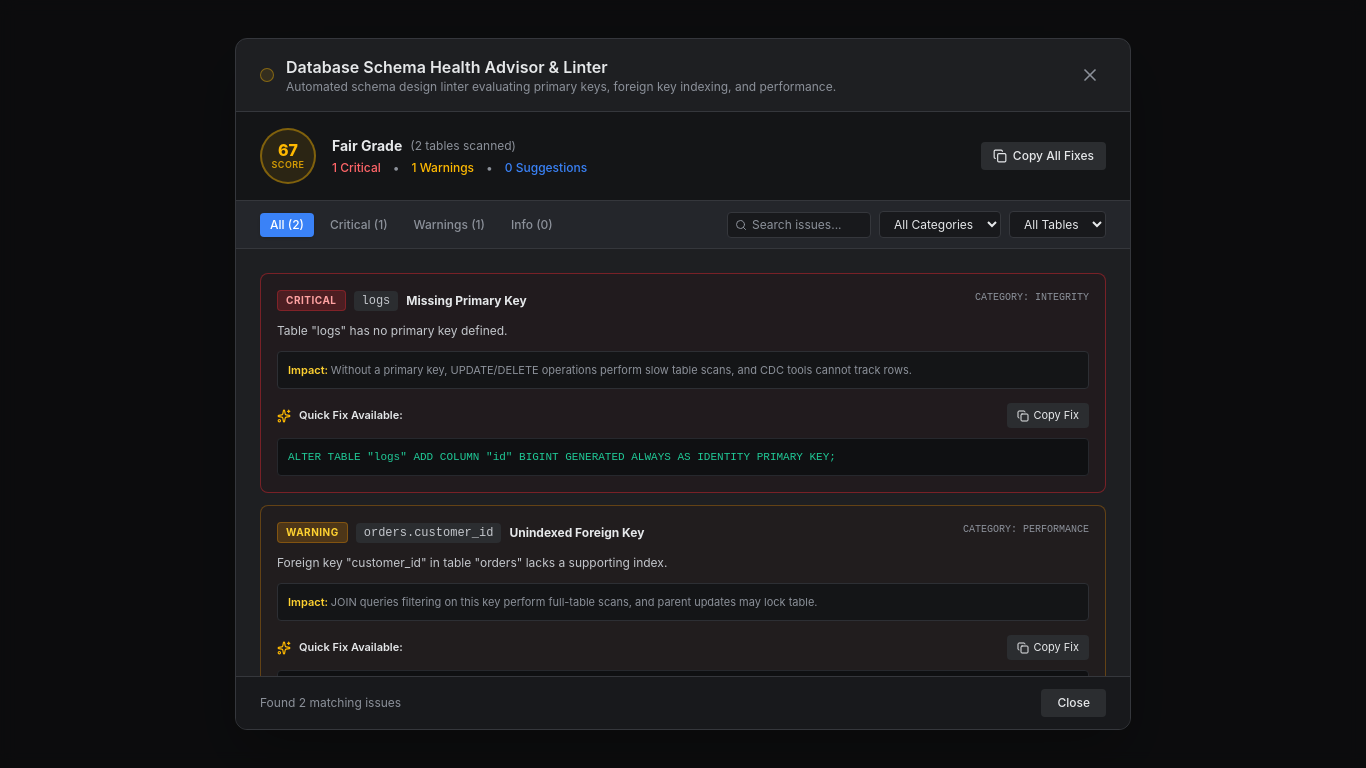
Scenario: SchemaHealthModal component › copies individual quick-fix SQL to clipboard with feedback
The width and height of the screenshot is (1366, 768).
Click the button "Copy Fix" below "integrity" at (1048, 416), box [1007,403,1089,428]
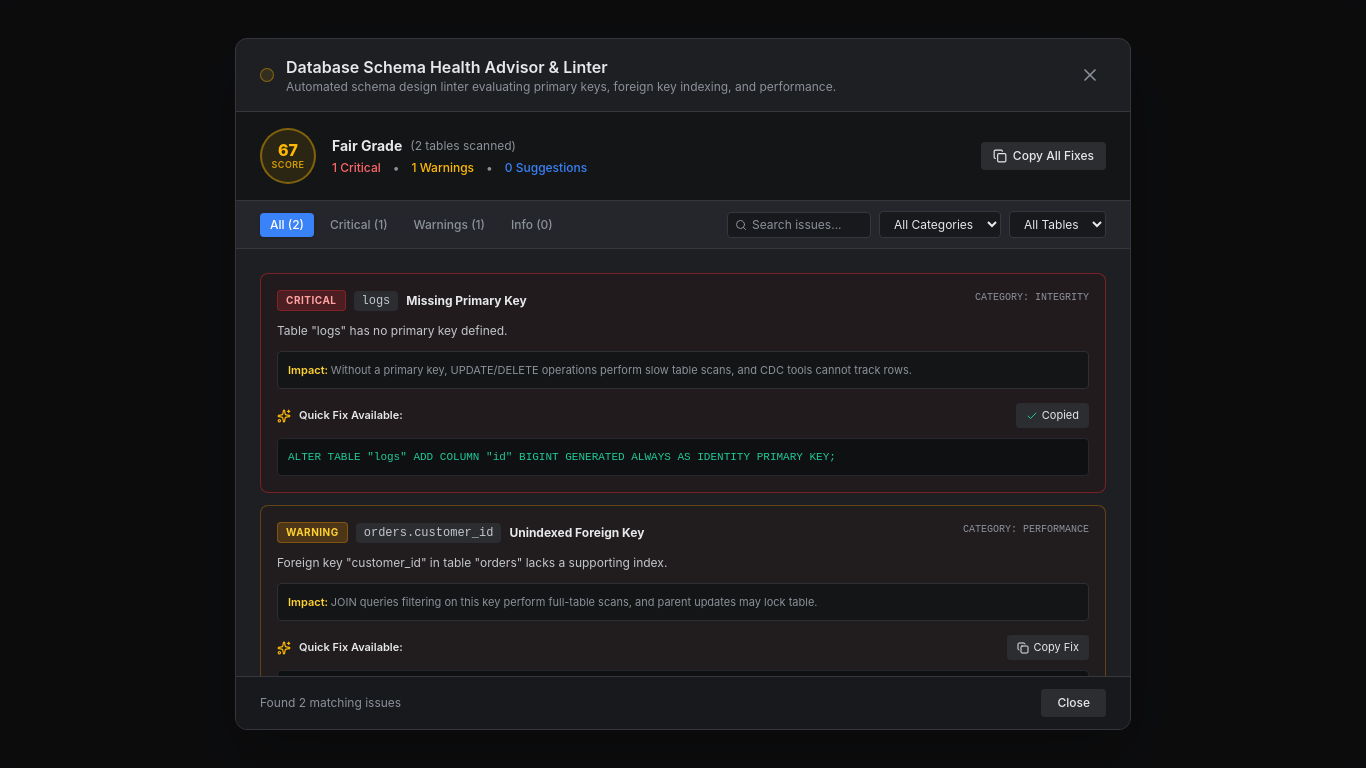
Expected: the text "Copied" is shown, [1042,407,1079,424]
